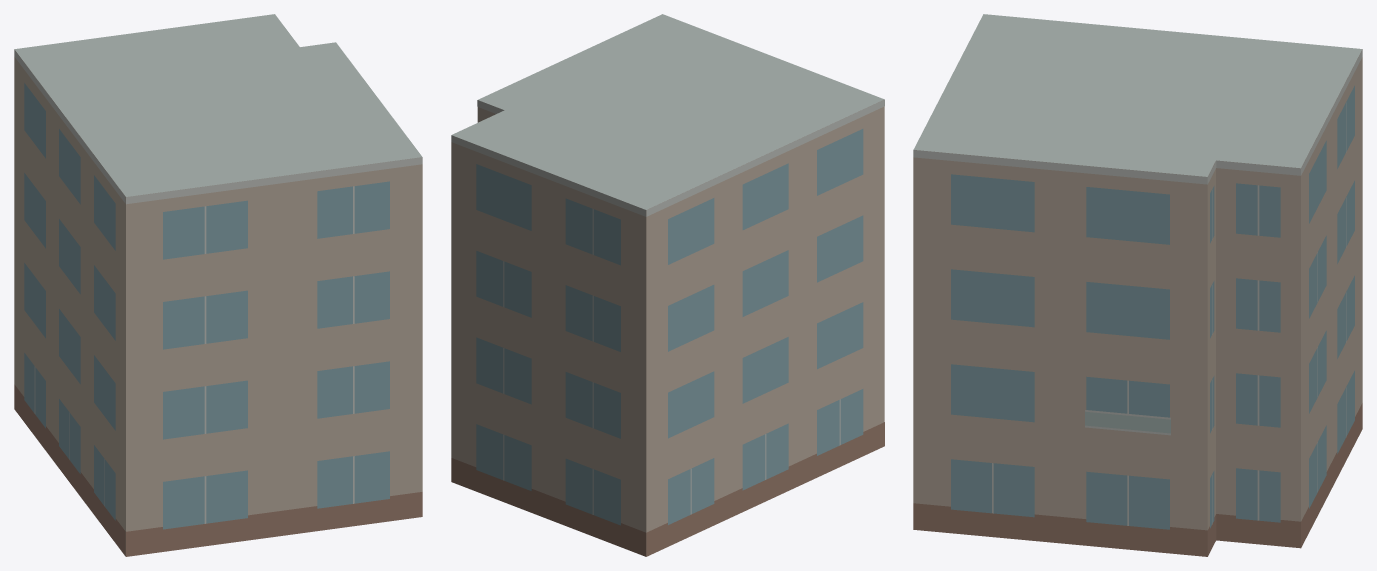
File: residential-d6fa034a-0195-42a7-ae89-fabb9d9576f2.glb
3 views of the same model, side by side, from view 1: azimuth 30°, elevation 25°; view 2: azimuth 150°, elevation 25°; view 3: azimuth 270°, elevation 25° (orthographic). The views are drawn at different scales.
Visible parts, largest first — view 1: residential-d6fa034a-0195-42a7-ae89-fabb9d9576f2.tmp; view 2: residential-d6fa034a-0195-42a7-ae89-fabb9d9576f2.tmp; view 3: residential-d6fa034a-0195-42a7-ae89-fabb9d9576f2.tmp.
Part boxes in pixels (left/top/right/bottom): residential-d6fa034a-0195-42a7-ae89-fabb9d9576f2.tmp: left=14, top=14, right=422, bottom=556; residential-d6fa034a-0195-42a7-ae89-fabb9d9576f2.tmp: left=451, top=14, right=884, bottom=556; residential-d6fa034a-0195-42a7-ae89-fabb9d9576f2.tmp: left=913, top=14, right=1362, bottom=556.
Bounding box in the file's own units: 11.23 × 12.2 × 13.08.
